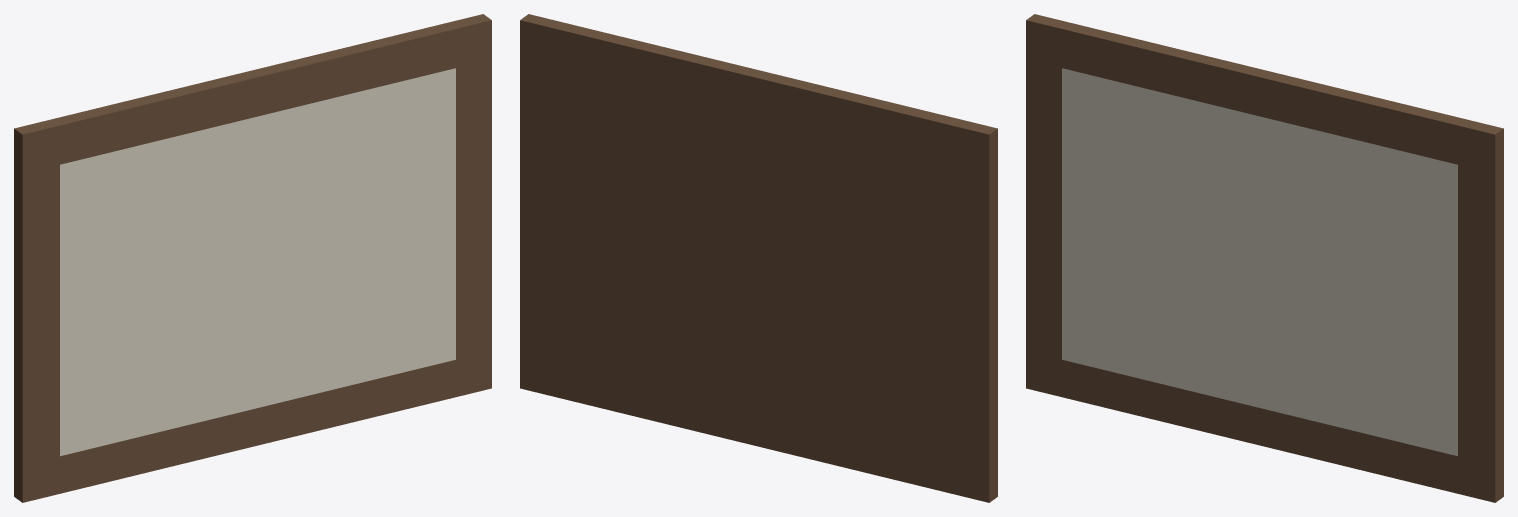
Rendered from engraving.glb.
3 views of the same model, side by side, from view 1: azimuth 30°, elevation 25°; view 2: azimuth 150°, elevation 25°; view 3: azimuth 330°, elevation 25° (orthographic).
Visible parts, largest first — view 1: engraving; view 2: engraving; view 3: engraving.
Boxes of the visible parts, bbox=[...] form: engraving: bbox=[14, 14, 491, 502]; engraving: bbox=[520, 14, 997, 502]; engraving: bbox=[1026, 14, 1503, 502].
Size of the model in its own units: 0.64 by 0.48 by 0.022.
